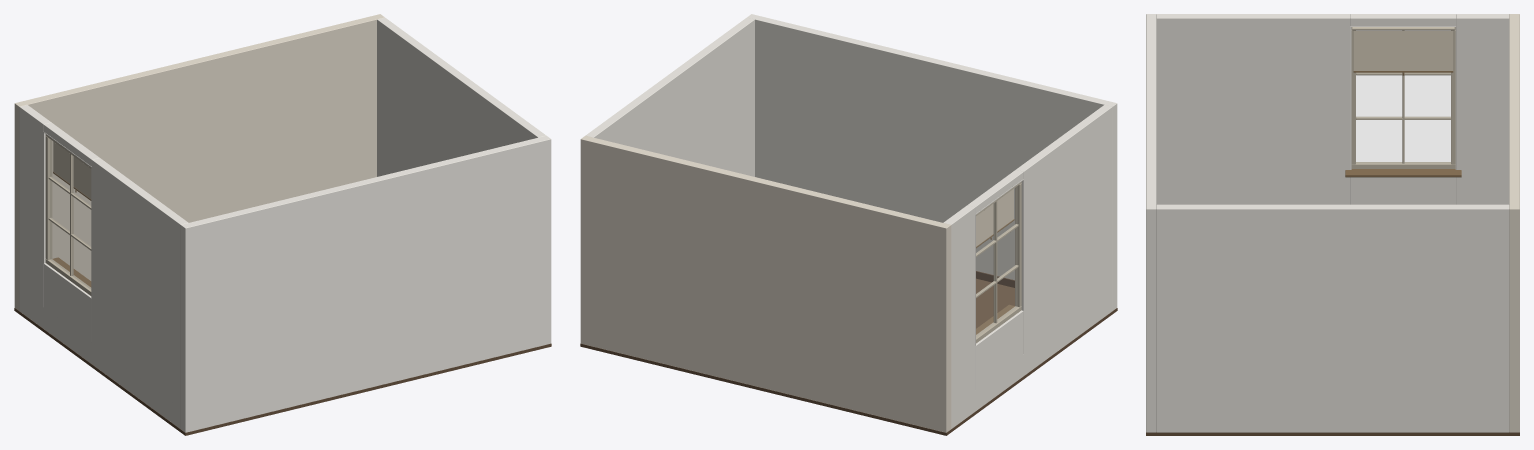
The model's file is room.glb.
3 views of the same model, side by side, from view 1: azimuth 30°, elevation 25°; view 2: azimuth 150°, elevation 25°; view 3: azimuth 270°, elevation 25° (orthographic). The views are drawn at different scales.
Visible parts, largest first — view 1: Wall_S_P0, Wall_N_P0, Wall_W_P0, Wall_E_P0, Wall_W_P1, Window_Glass, Wall_W_Stub_P0, Wall_W_P2, Floor, Wall_S_Stub_P0, Window_Blind_Fabric, Window_Frame_R (+1 smaller); view 2: Wall_N_P0, Wall_S_P0, Wall_W_P0, Wall_E_P0, Wall_W_P1, Window_Glass, Wall_W_Stub_P0, Floor, Wall_W_P2, Wall_N_Stub_P0, Window_Blind_Fabric, Window_Frame_L (+2 smaller); view 3: Wall_E_P0, Wall_W_P0, Wall_W_P1, Window_Glass, Wall_E_Stub_P0, Wall_S_P0, Wall_N_P0, Window_Blind_Fabric, Wall_W_P2, Floor, Wall_W_P3, Window_Sill (+6 smaller).
Part boxes in pixels (left/top/right/bottom): Wall_S_P0: left=180, top=135, right=551, bottom=432; Wall_N_P0: left=14, top=14, right=384, bottom=310; Wall_W_P0: left=92, top=158, right=188, bottom=407; Wall_E_P0: left=377, top=17, right=545, bottom=176; Wall_W_P1: left=19, top=105, right=51, bottom=307; Window_Glass: left=50, top=140, right=90, bottom=288; Wall_W_Stub_P0: left=19, top=290, right=180, bottom=428; Wall_W_P2: left=43, top=263, right=91, bottom=342; Floor: left=14, top=308, right=551, bottom=435; Wall_S_Stub_P0: left=180, top=332, right=512, bottom=431; Window_Blind_Fabric: left=53, top=141, right=91, bottom=198; Window_Frame_R: left=45, top=136, right=52, bottom=259; Wall_N_P0: left=580, top=135, right=951, bottom=432; Wall_S_P0: left=747, top=14, right=1117, bottom=310; Wall_W_P0: left=1016, top=105, right=1112, bottom=354; Wall_E_P0: left=586, top=17, right=754, bottom=176; Wall_W_P1: left=943, top=205, right=975, bottom=407; Window_Glass: left=976, top=187, right=1016, bottom=336; Wall_W_Stub_P0: left=951, top=290, right=1112, bottom=428; Floor: left=580, top=278, right=1117, bottom=435; Wall_W_P2: left=975, top=310, right=1023, bottom=389; Wall_N_Stub_P0: left=612, top=330, right=950, bottom=431; Window_Blind_Fabric: left=976, top=189, right=1013, bottom=246; Window_Frame_L: left=1015, top=183, right=1021, bottom=307; Wall_E_P0: left=1156, top=204, right=1509, bottom=432; Wall_W_P0: left=1156, top=14, right=1350, bottom=204; Wall_W_P1: left=1456, top=14, right=1509, bottom=204; Window_Glass: left=1356, top=76, right=1450, bottom=162; Wall_E_Stub_P0: left=1156, top=409, right=1509, bottom=432; Wall_S_P0: left=1146, top=14, right=1156, bottom=432; Wall_N_P0: left=1509, top=14, right=1519, bottom=432; Window_Blind_Fabric: left=1354, top=31, right=1452, bottom=70; Wall_W_P2: left=1350, top=177, right=1456, bottom=204; Floor: left=1146, top=432, right=1519, bottom=435; Wall_W_P3: left=1350, top=14, right=1456, bottom=25; Window_Sill: left=1345, top=169, right=1461, bottom=177.
Bounding box in the file's own units: 5.24 × 2.84 × 4.24.
